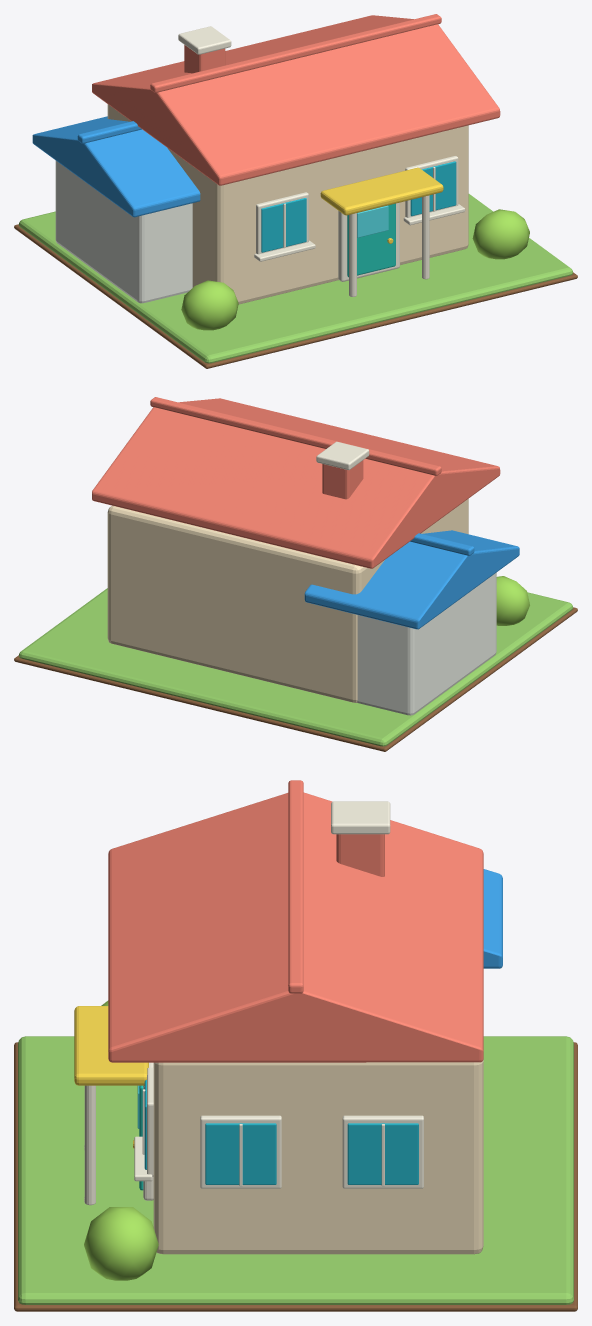
The model's file is SM_Villa.fbx.
The picture shows the model from 3 angles, top to bottom: view 1: azimuth 30°, elevation 25°; view 2: azimuth 150°, elevation 25°; view 3: azimuth 270°, elevation 25°; orthographic projection. The views are drawn at different scales.
Parts seen in each view (by area): view 1: Solid pitched roof.006, Villa main body, Beveled site foundation.010, Villa side wing, Solid pitched roof.007, Roof ridge cap.006, Entry porch, Foundation shadow course.010, Villa garden shrub, Villa garden shrub.001, Recessed turquoise glass.047, Door leaf.005 (+11 smaller); view 2: Solid pitched roof.006, Villa main body, Beveled site foundation.010, Villa side wing, Solid pitched roof.007, Foundation shadow course.010, Roof ridge cap.006, Villa garden shrub, Chimney, Chimney cap, Roof ridge cap.007; view 3: Solid pitched roof.006, Beveled site foundation.010, Villa main body, Foundation shadow course.010, Villa garden shrub.001, Side glass.020, Side glass.021, Entry porch, Roof ridge cap.006, Chimney cap, Solid pitched roof.007, Side window frame.020 (+4 smaller).
Part boxes in pixels (x1,y1,x2,y2): Solid pitched roof.006: (92,15,500,185); Villa main body: (107,104,468,304); Beveled site foundation.010: (18,194,572,363); Villa side wing: (55,160,192,303); Solid pitched roof.007: (32,116,200,217); Roof ridge cap.006: (150,14,441,92); Entry porch: (320,167,443,215); Foundation shadow course.010: (14,224,577,368); Villa garden shrub: (181,280,238,330); Villa garden shrub.001: (472,209,529,259); Recessed turquoise glass.047: (261,198,306,252); Door leaf.005: (347,203,395,277); Solid pitched roof.006: (92,398,500,568); Villa main body: (107,499,468,702); Beveled site foundation.010: (19,588,573,746); Villa side wing: (357,572,496,715); Solid pitched roof.007: (304,530,519,629); Foundation shadow course.010: (14,607,577,751); Roof ridge cap.006: (150,397,441,475); Villa garden shrub: (496,576,529,625); Chimney: (322,460,363,499); Chimney cap: (316,441,369,470); Roof ridge cap.007: (410,533,474,555); Solid pitched roof.006: (108,792,483,1062); Beveled site foundation.010: (18,1036,573,1304); Villa main body: (153,1059,483,1254); Foundation shadow course.010: (14,1042,577,1311); Villa garden shrub.001: (84,1207,158,1280); Side glass.020: (205,1123,276,1184); Side glass.021: (347,1123,418,1184); Entry porch: (74,1006,148,1085); Roof ridge cap.006: (288,780,303,993); Chimney cap: (331,801,390,834); Solid pitched roof.007: (483,869,502,968); Side window frame.020: (200,1115,281,1188).
Bounding box in the file's own units: 9.99 × 5.43 × 8.72.
